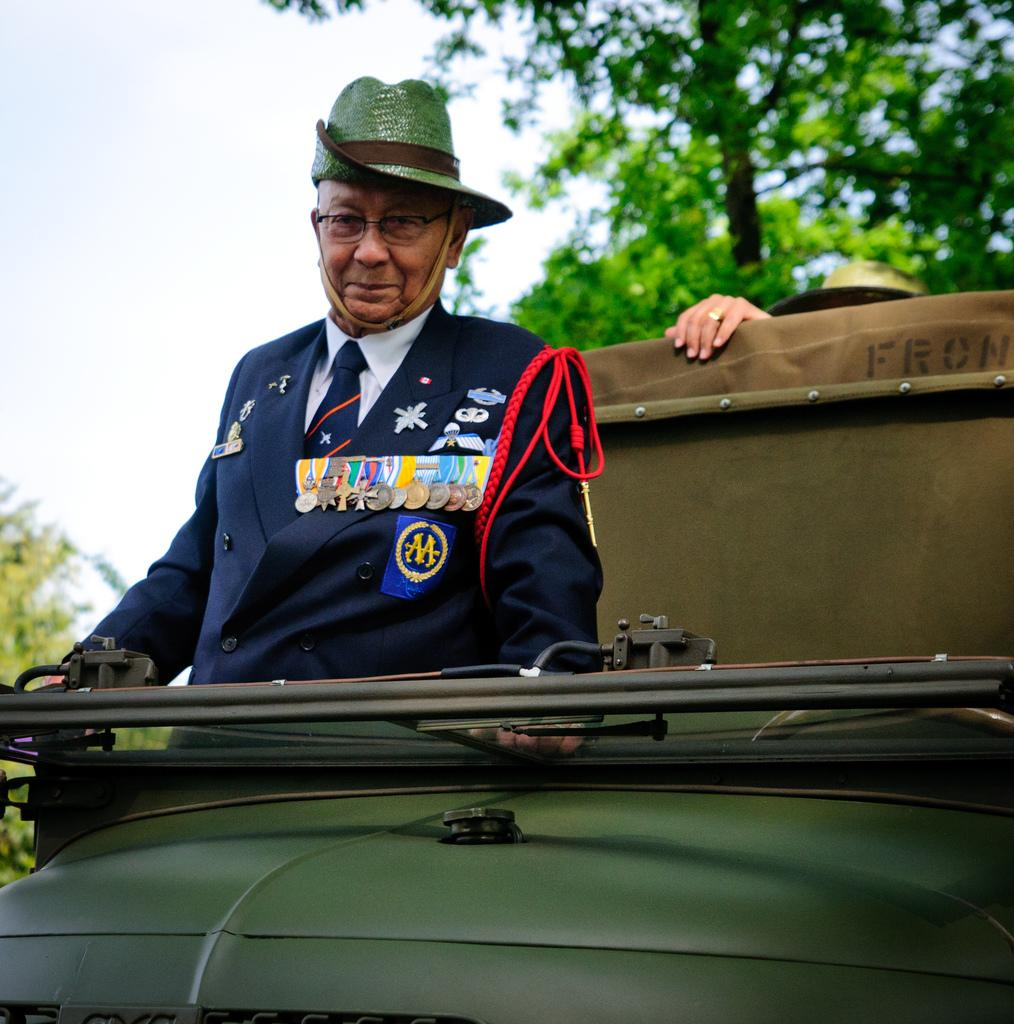Hat: (305, 72, 514, 336)
